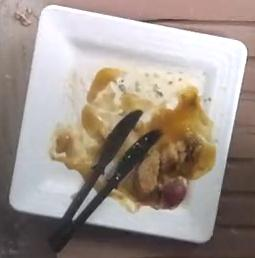potato: (119, 134, 204, 209)
